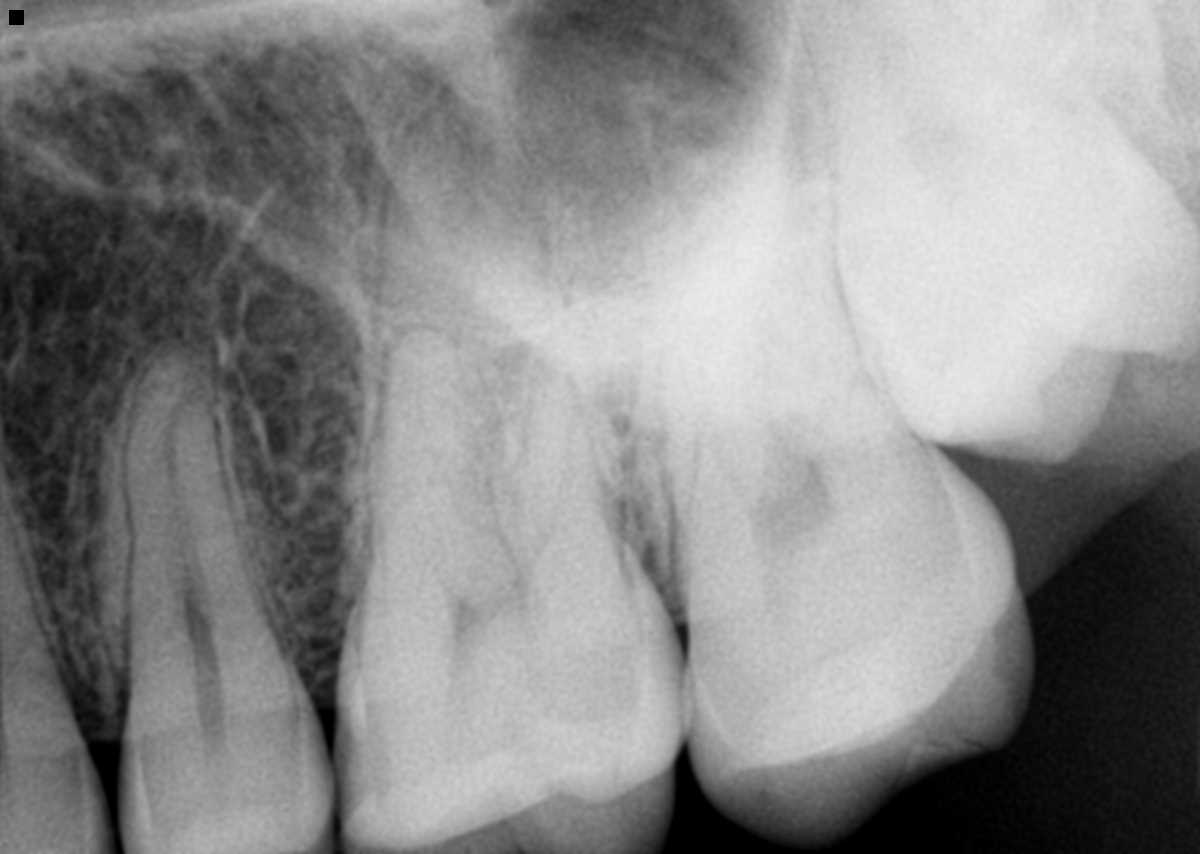Distal Root: (486, 284, 638, 577)
Main Canal: (163, 367, 225, 702)
Main Root: (653, 122, 893, 551), (121, 329, 292, 729), (0, 486, 70, 750)
Mesial Root: (348, 322, 534, 642)
Palatal Root: (343, 87, 625, 640)
